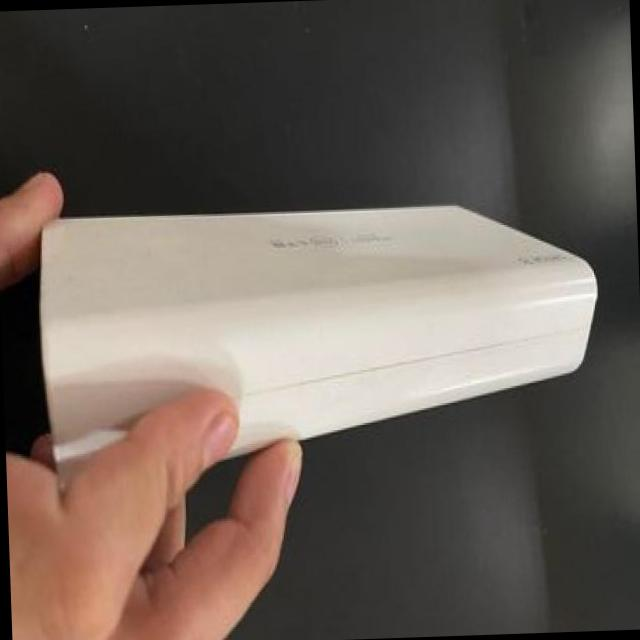portable-charger: (5, 118, 614, 556)
